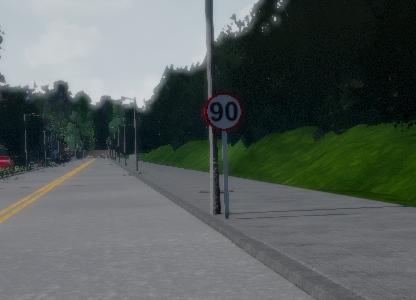Speed_90: (202, 92, 246, 132)
